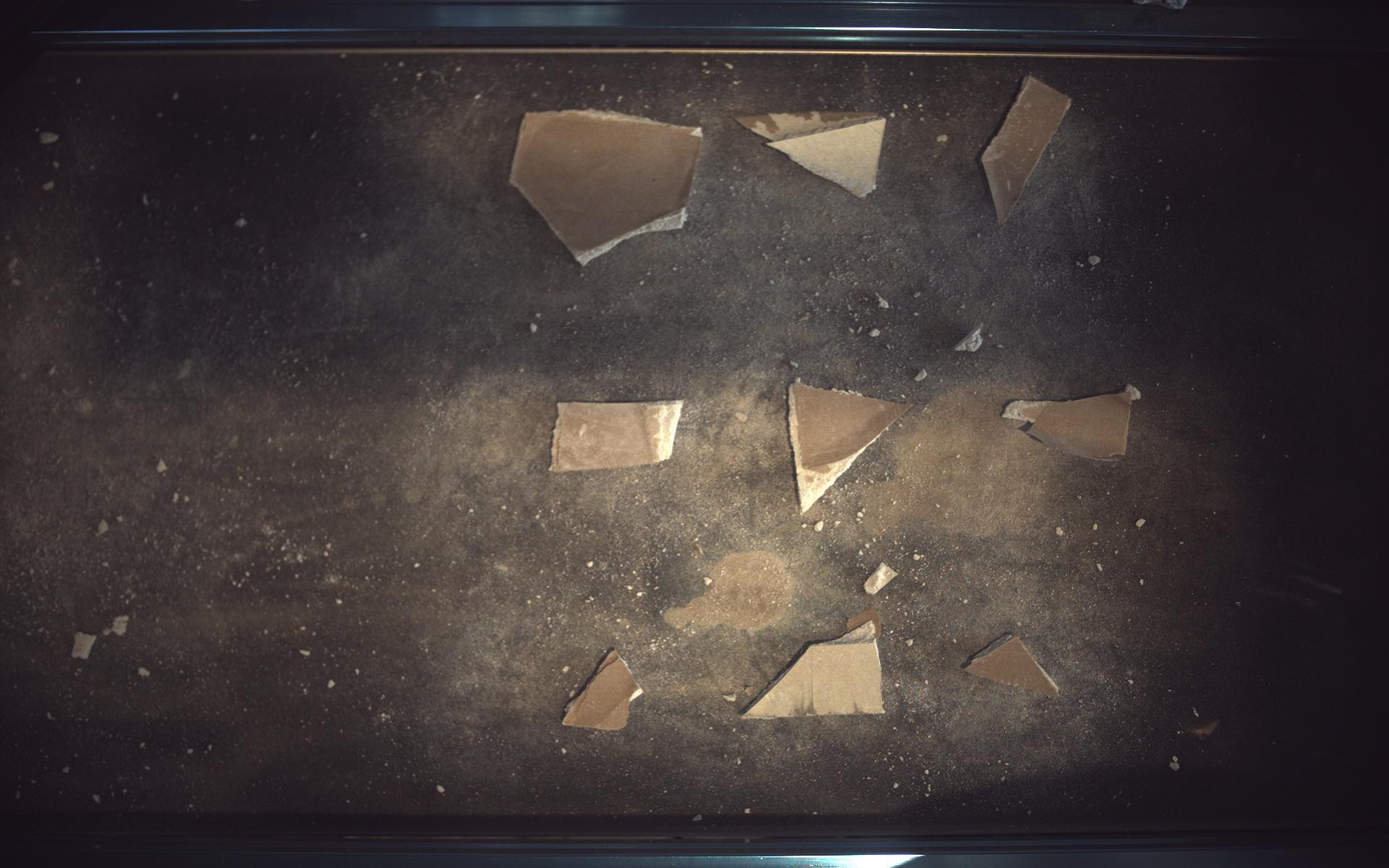gypsum_board: (511, 109, 703, 264), (744, 609, 885, 720), (791, 381, 910, 512), (983, 74, 1074, 224), (737, 110, 888, 197), (1004, 385, 1144, 461), (551, 400, 684, 472), (563, 650, 644, 731), (965, 632, 1061, 697)
